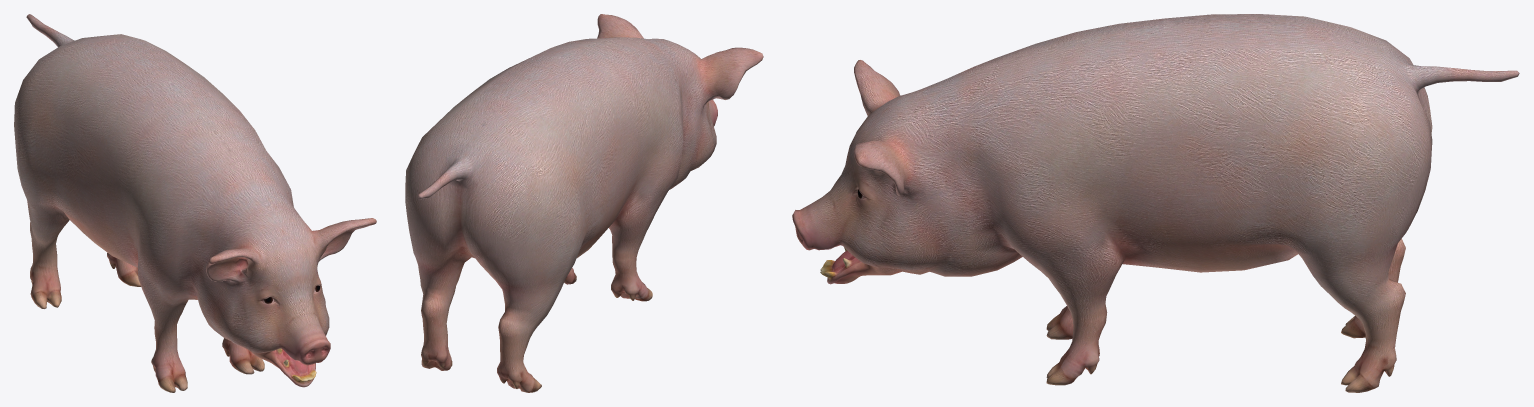
File: Pig.fbx
3 renders of one model, left to right at view 1: azimuth 30°, elevation 25°; view 2: azimuth 150°, elevation 25°; view 3: azimuth 270°, elevation 25°, orthographic. The views are drawn at different scales.
Visible parts, largest first — view 1: node_id4; view 2: node_id4; view 3: node_id4.
Boxes of the visible parts, <box> form: node_id4: <box>14,14,376,392</box>; node_id4: <box>405,14,763,392</box>; node_id4: <box>792,14,1519,392</box>.
Bounding box in the file's own units: 0.3315 × 0.512 × 1.01.
Materials: 1 (1 with a texture image).
